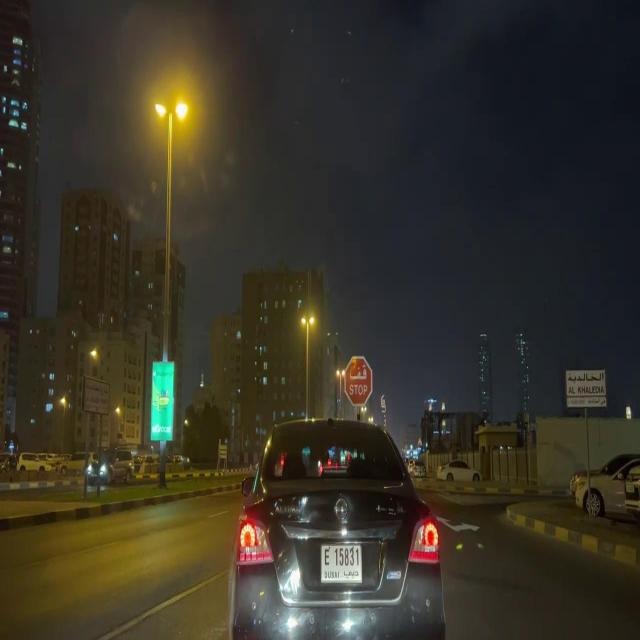License-plate: (320, 539, 365, 584)
